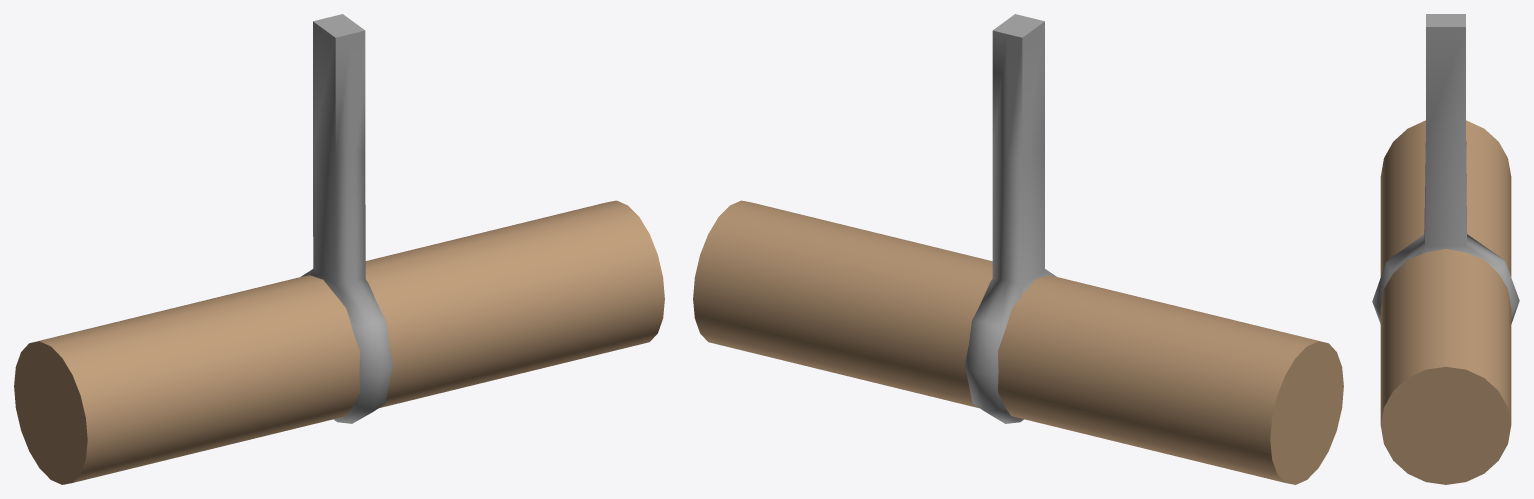
The model's file is log.fbx.
3 renders of one model, left to right at view 1: azimuth 30°, elevation 25°; view 2: azimuth 150°, elevation 25°; view 3: azimuth 270°, elevation 25°, orthographic. The views are drawn at different scales.
Parts seen in each view (by area): view 1: log, rope; view 2: log, rope; view 3: log, rope.
Boxes of the visible parts, box(x1,y1,x2,y2) form: log: box(14, 200, 664, 484); rope: box(301, 14, 392, 423); log: box(693, 200, 1343, 484); rope: box(965, 14, 1056, 423); log: box(1380, 120, 1511, 484); rope: box(1372, 14, 1519, 323).
Bounding box in the file's own units: 14.77 × 9.51 × 3.69.
